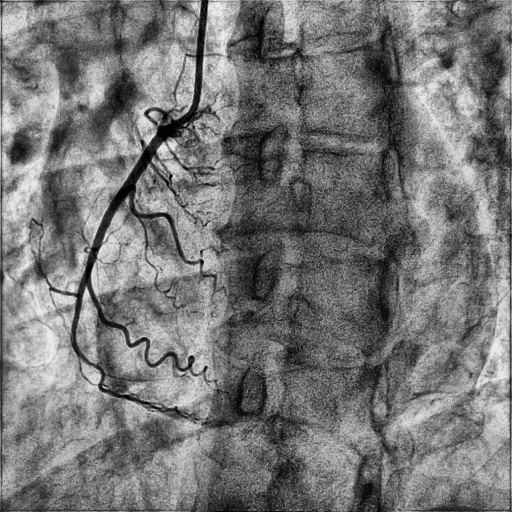rca: (71, 124, 176, 376)
